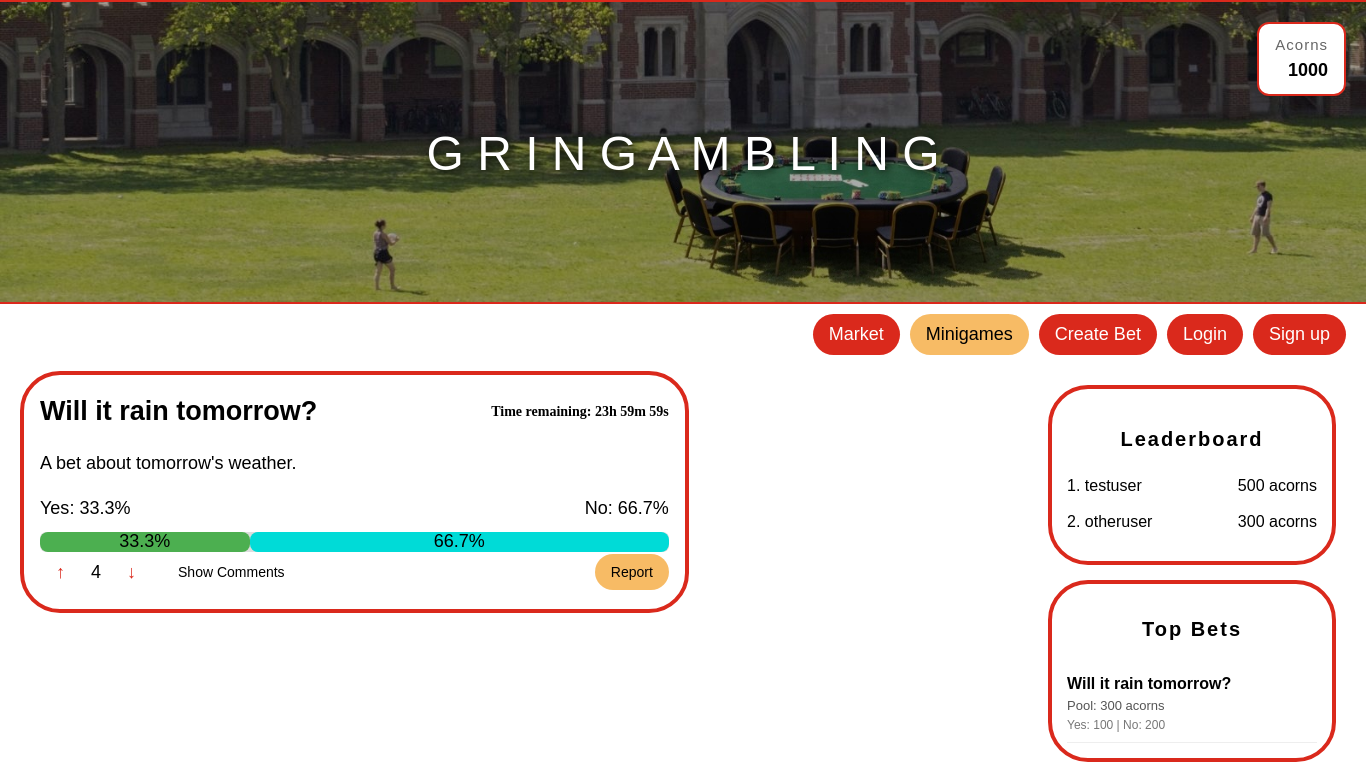
Test: login modal › opens when Login button is clicked
The width and height of the screenshot is (1366, 768).
Click the button "Login".
click(1205, 334)  # box [1167,314,1243,355]
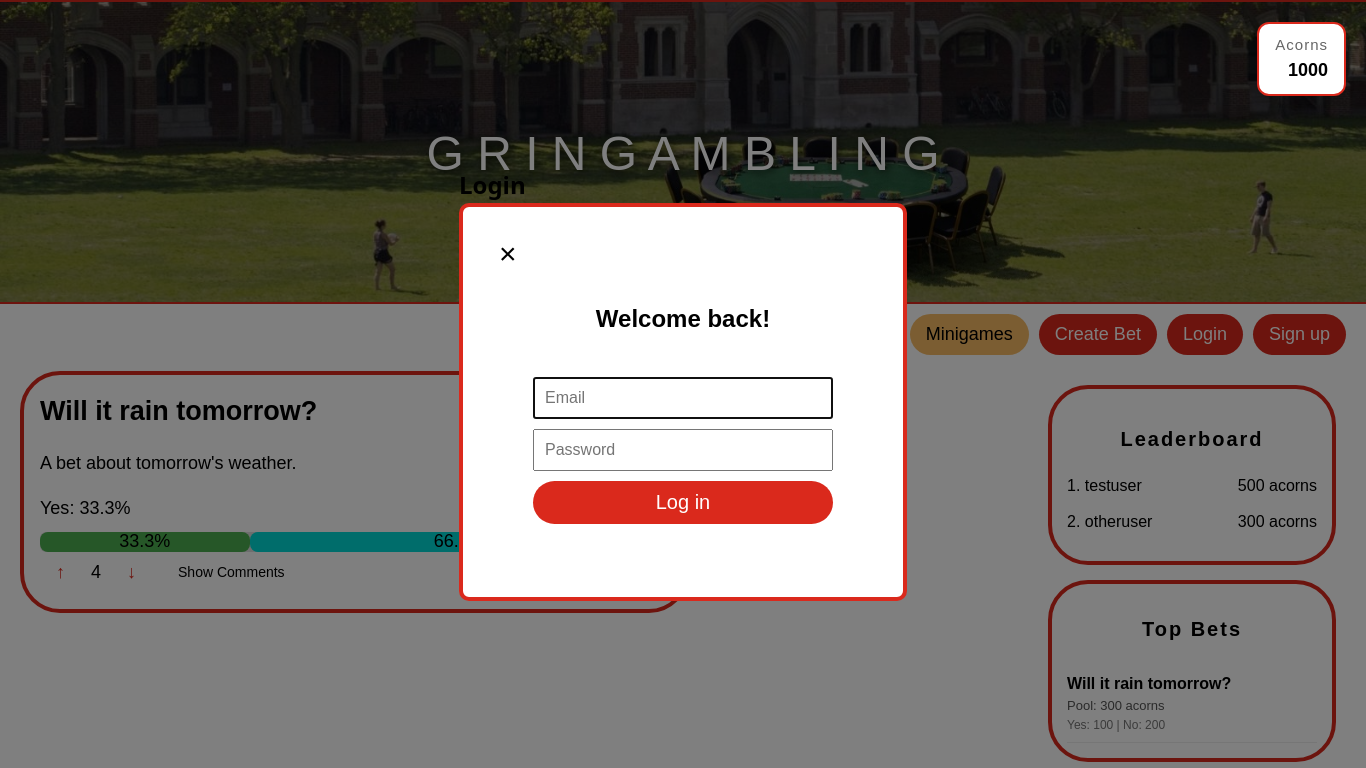
Expected: the dialog "Login × Welcome back! Log in" is shown, [459,167,907,601]
